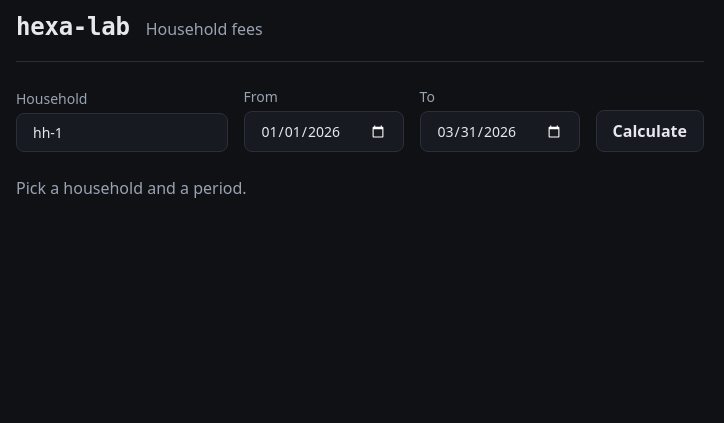
Test: happy path: submit with defaults shows the three lines and the total
This screenshot has width=724, height=423.
Click the button "Calculate" at (650, 131), box [596,110,704,152]
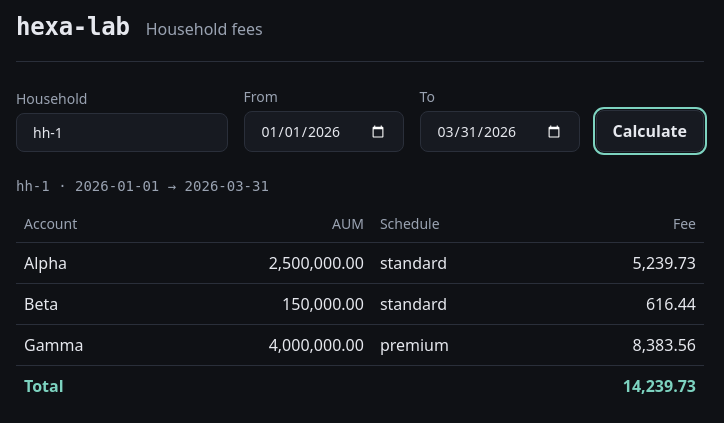
Now the text "2,500,000.00" is shown, box [160,242,372,284]
Now the text "5,239.73" is shown, box [534,242,704,284]
Now the text "hh-1 · 2026-01-01 → 2026-03-31" is shown, box [16,178,269,194]
